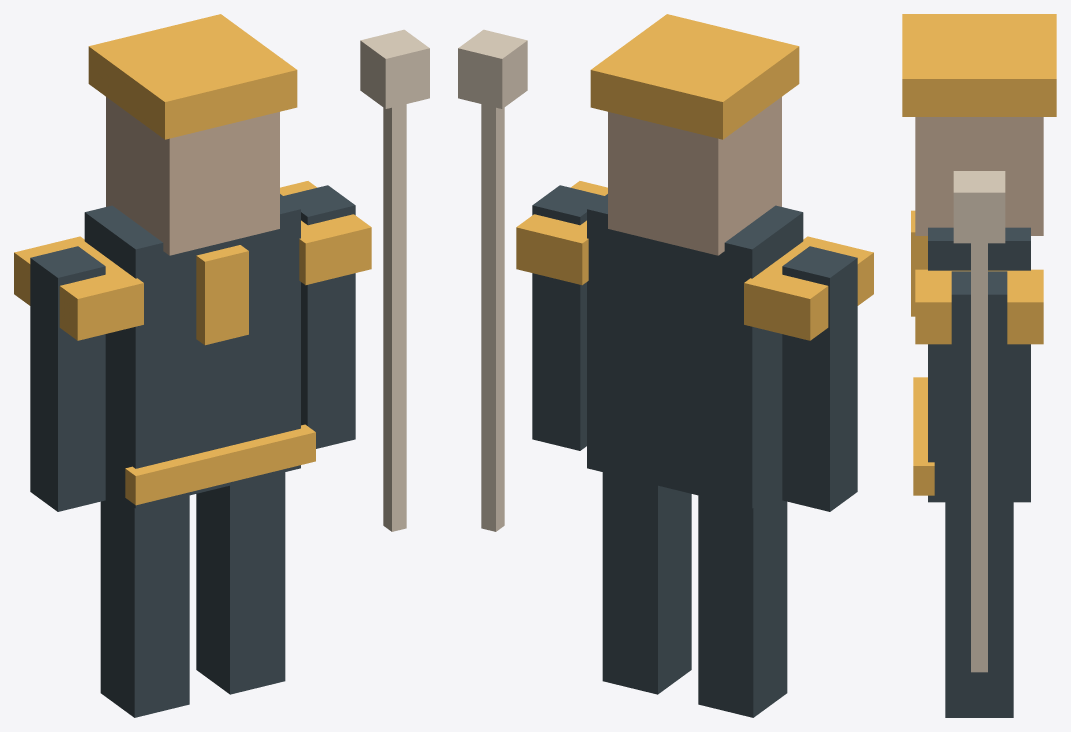
The model's file is 05_makoa_stormhush_engineer_at_relay.glb.
3 renders of one model, left to right at view 1: azimuth 30°, elevation 25°; view 2: azimuth 150°, elevation 25°; view 3: azimuth 270°, elevation 25°, orthographic.
Parts seen in each view (by area): view 1: Makoa Stormhush, Engineer at Relay; view 2: Makoa Stormhush, Engineer at Relay; view 3: Makoa Stormhush, Engineer at Relay.
Part boxes in pixels (<box>): Makoa Stormhush, Engineer at Relay: <box>14,14,429,717</box>; Makoa Stormhush, Engineer at Relay: <box>458,14,873,717</box>; Makoa Stormhush, Engineer at Relay: <box>902,14,1056,717</box>.
Size of the model in its own units: 0.9363 by 1.51 by 0.3321.
